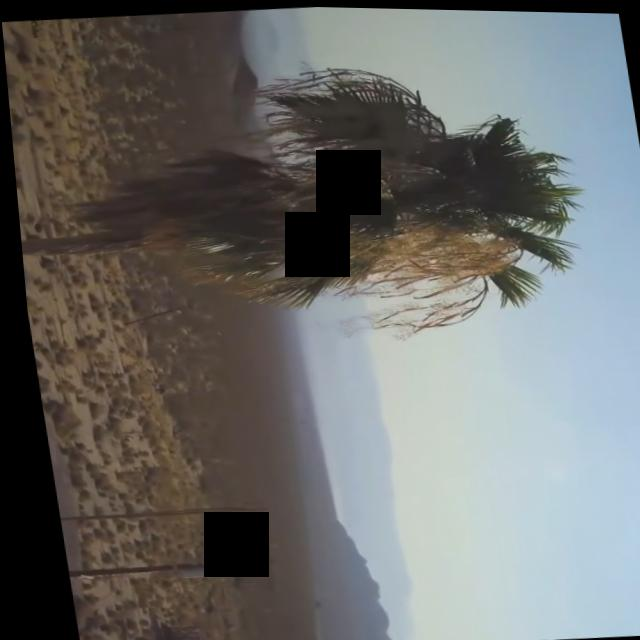Pole: (53, 532, 270, 592), (47, 497, 261, 537)
Tree: (3, 47, 571, 340)
